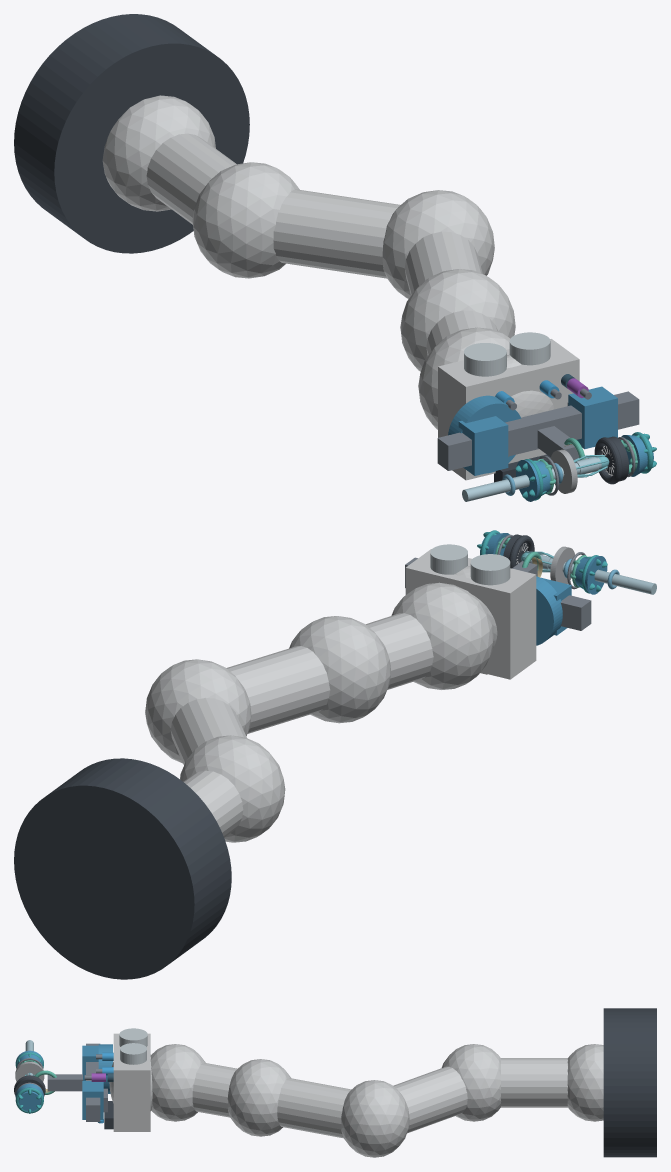
The model's file is dranmar_franka_anastomosis_assembly.glb.
3 views of the same model, one above another, from view 1: azimuth 30°, elevation 25°; view 2: azimuth 150°, elevation 25°; view 3: azimuth 270°, elevation 25° (orthographic). The views are drawn at different scales.
Visible parts, largest first — view 1: Base, ArmJoint_1, ArmLink_1, ArmJoint_0, ArmJoint_2, ArmJoint_3, Mount_HousingCore, ArmLink_0, Mount_ApproximationRail, ArmLink_2, ArmJoint_4, LeftCarriage_CarriageBody (+10 smaller); view 2: Base, ArmJoint_3, ArmJoint_4, Mount_HousingCore, ArmJoint_1, ArmLink_2, ArmJoint_2, ArmLink_3, ArmLink_1, ArmLink_0, Mount_CollarCarouselHousing, Mount_LeakCollectionCanister (+4 smaller); view 3: Base, ArmJoint_2, ArmJoint_3, ArmLink_0, ArmLink_2, ArmJoint_4, ArmLink_1, ArmJoint_1, Mount_HousingCore, ArmJoint_0, ArmLink_3, CollarApplicator_ApplicatorStem (+9 smaller).
Boxes of the visible parts, left/top/right/bottom form: Base: left=14, top=14, right=249, bottom=253; ArmJoint_1: left=192, top=162, right=299, bottom=278; ArmLink_1: left=273, top=189, right=400, bottom=278; ArmJoint_0: left=102, top=95, right=215, bottom=211; ArmJoint_2: left=382, top=190, right=494, bottom=298; ArmJoint_3: left=400, top=269, right=515, bottom=371; Mount_HousingCore: left=438, top=339, right=579, bottom=480; ArmLink_0: left=146, top=133, right=236, bottom=224; Mount_ApproximationRail: left=437, top=391, right=639, bottom=470; ArmLink_2: left=404, top=231, right=482, bottom=295; ArmJoint_4: left=418, top=327, right=510, bottom=429; LeftCarriage_CarriageBody: left=458, top=416, right=508, bottom=475; Base: left=14, top=758, right=231, bottom=979; ArmJoint_3: left=289, top=616, right=390, bottom=723; ArmJoint_4: left=391, top=582, right=493, bottom=689; Mount_HousingCore: left=405, top=549, right=536, bottom=679; ArmJoint_1: left=180, top=735, right=285, bottom=842; ArmLink_2: left=226, top=646, right=330, bottom=733; ArmJoint_2: left=145, top=659, right=251, bottom=763; ArmLink_3: left=366, top=613, right=433, bottom=689; ArmLink_1: left=170, top=697, right=246, bottom=764; ArmLink_0: left=183, top=770, right=243, bottom=837; Mount_CollarCarouselHousing: left=536, top=576, right=562, bottom=645; Mount_LeakCollectionCanister: left=470, top=554, right=510, bottom=585; Base: left=603, top=1008, right=656, bottom=1157; ArmJoint_2: left=341, top=1080, right=409, bottom=1157; ArmJoint_3: left=227, top=1059, right=290, bottom=1136; ArmLink_0: left=500, top=1058, right=567, bottom=1107; ArmLink_2: left=277, top=1078, right=351, bottom=1138; ArmJoint_4: left=150, top=1044, right=205, bottom=1121; ArmLink_1: left=393, top=1066, right=467, bottom=1133; ArmJoint_1: left=441, top=1044, right=501, bottom=1121; Mount_HousingCore: left=113, top=1033, right=150, bottom=1131; ArmJoint_0: left=567, top=1044, right=603, bottom=1121; ArmLink_3: left=192, top=1063, right=237, bottom=1117; CollarApplicator_ApplicatorStem: left=47, top=1074, right=82, bottom=1091.
Bounding box in the file's own units: 0.305 × 0.21 × 0.9048.
